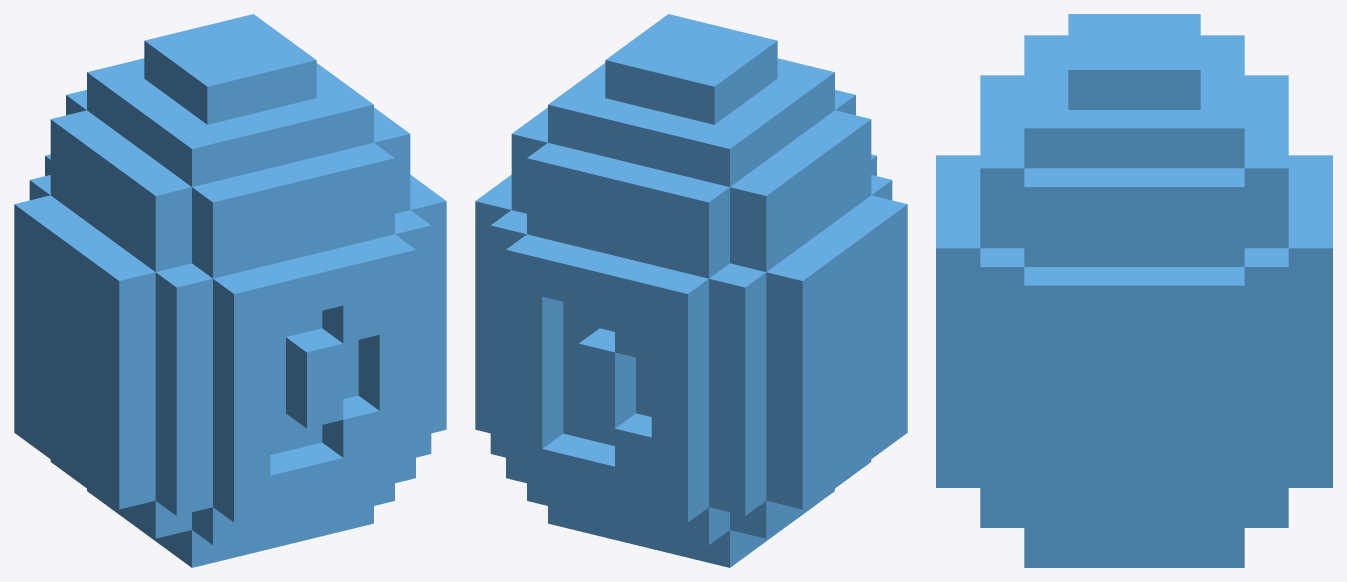
The picture shows the model from 3 angles, left to right: view 1: azimuth 30°, elevation 25°; view 2: azimuth 150°, elevation 25°; view 3: azimuth 270°, elevation 25°; orthographic projection. The views are drawn at different scales.
Parts seen in each view (by area): view 1: 44; view 2: 44; view 3: 44.
Boxes of the visible parts, bbox=[...] form: 44: bbox=[14, 14, 446, 567]; 44: bbox=[475, 14, 907, 567]; 44: bbox=[936, 14, 1332, 567].
Size of the model in its own units: 90 by 120 by 90.
1 material, 1 textured.
